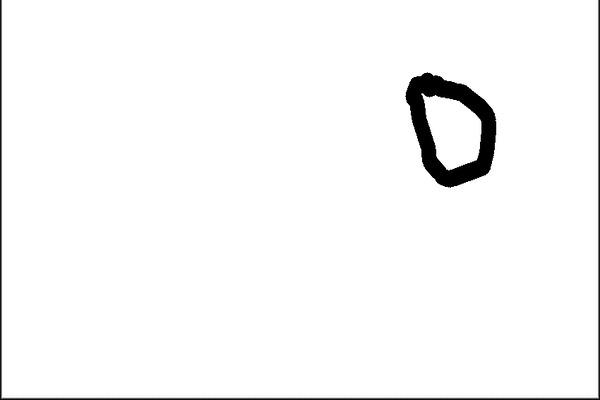O: (385, 57, 504, 194)
